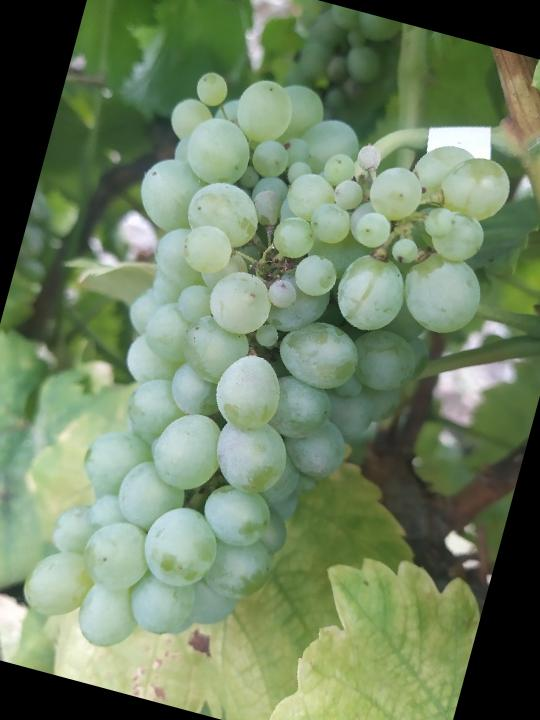grape: (8, 47, 527, 720)
